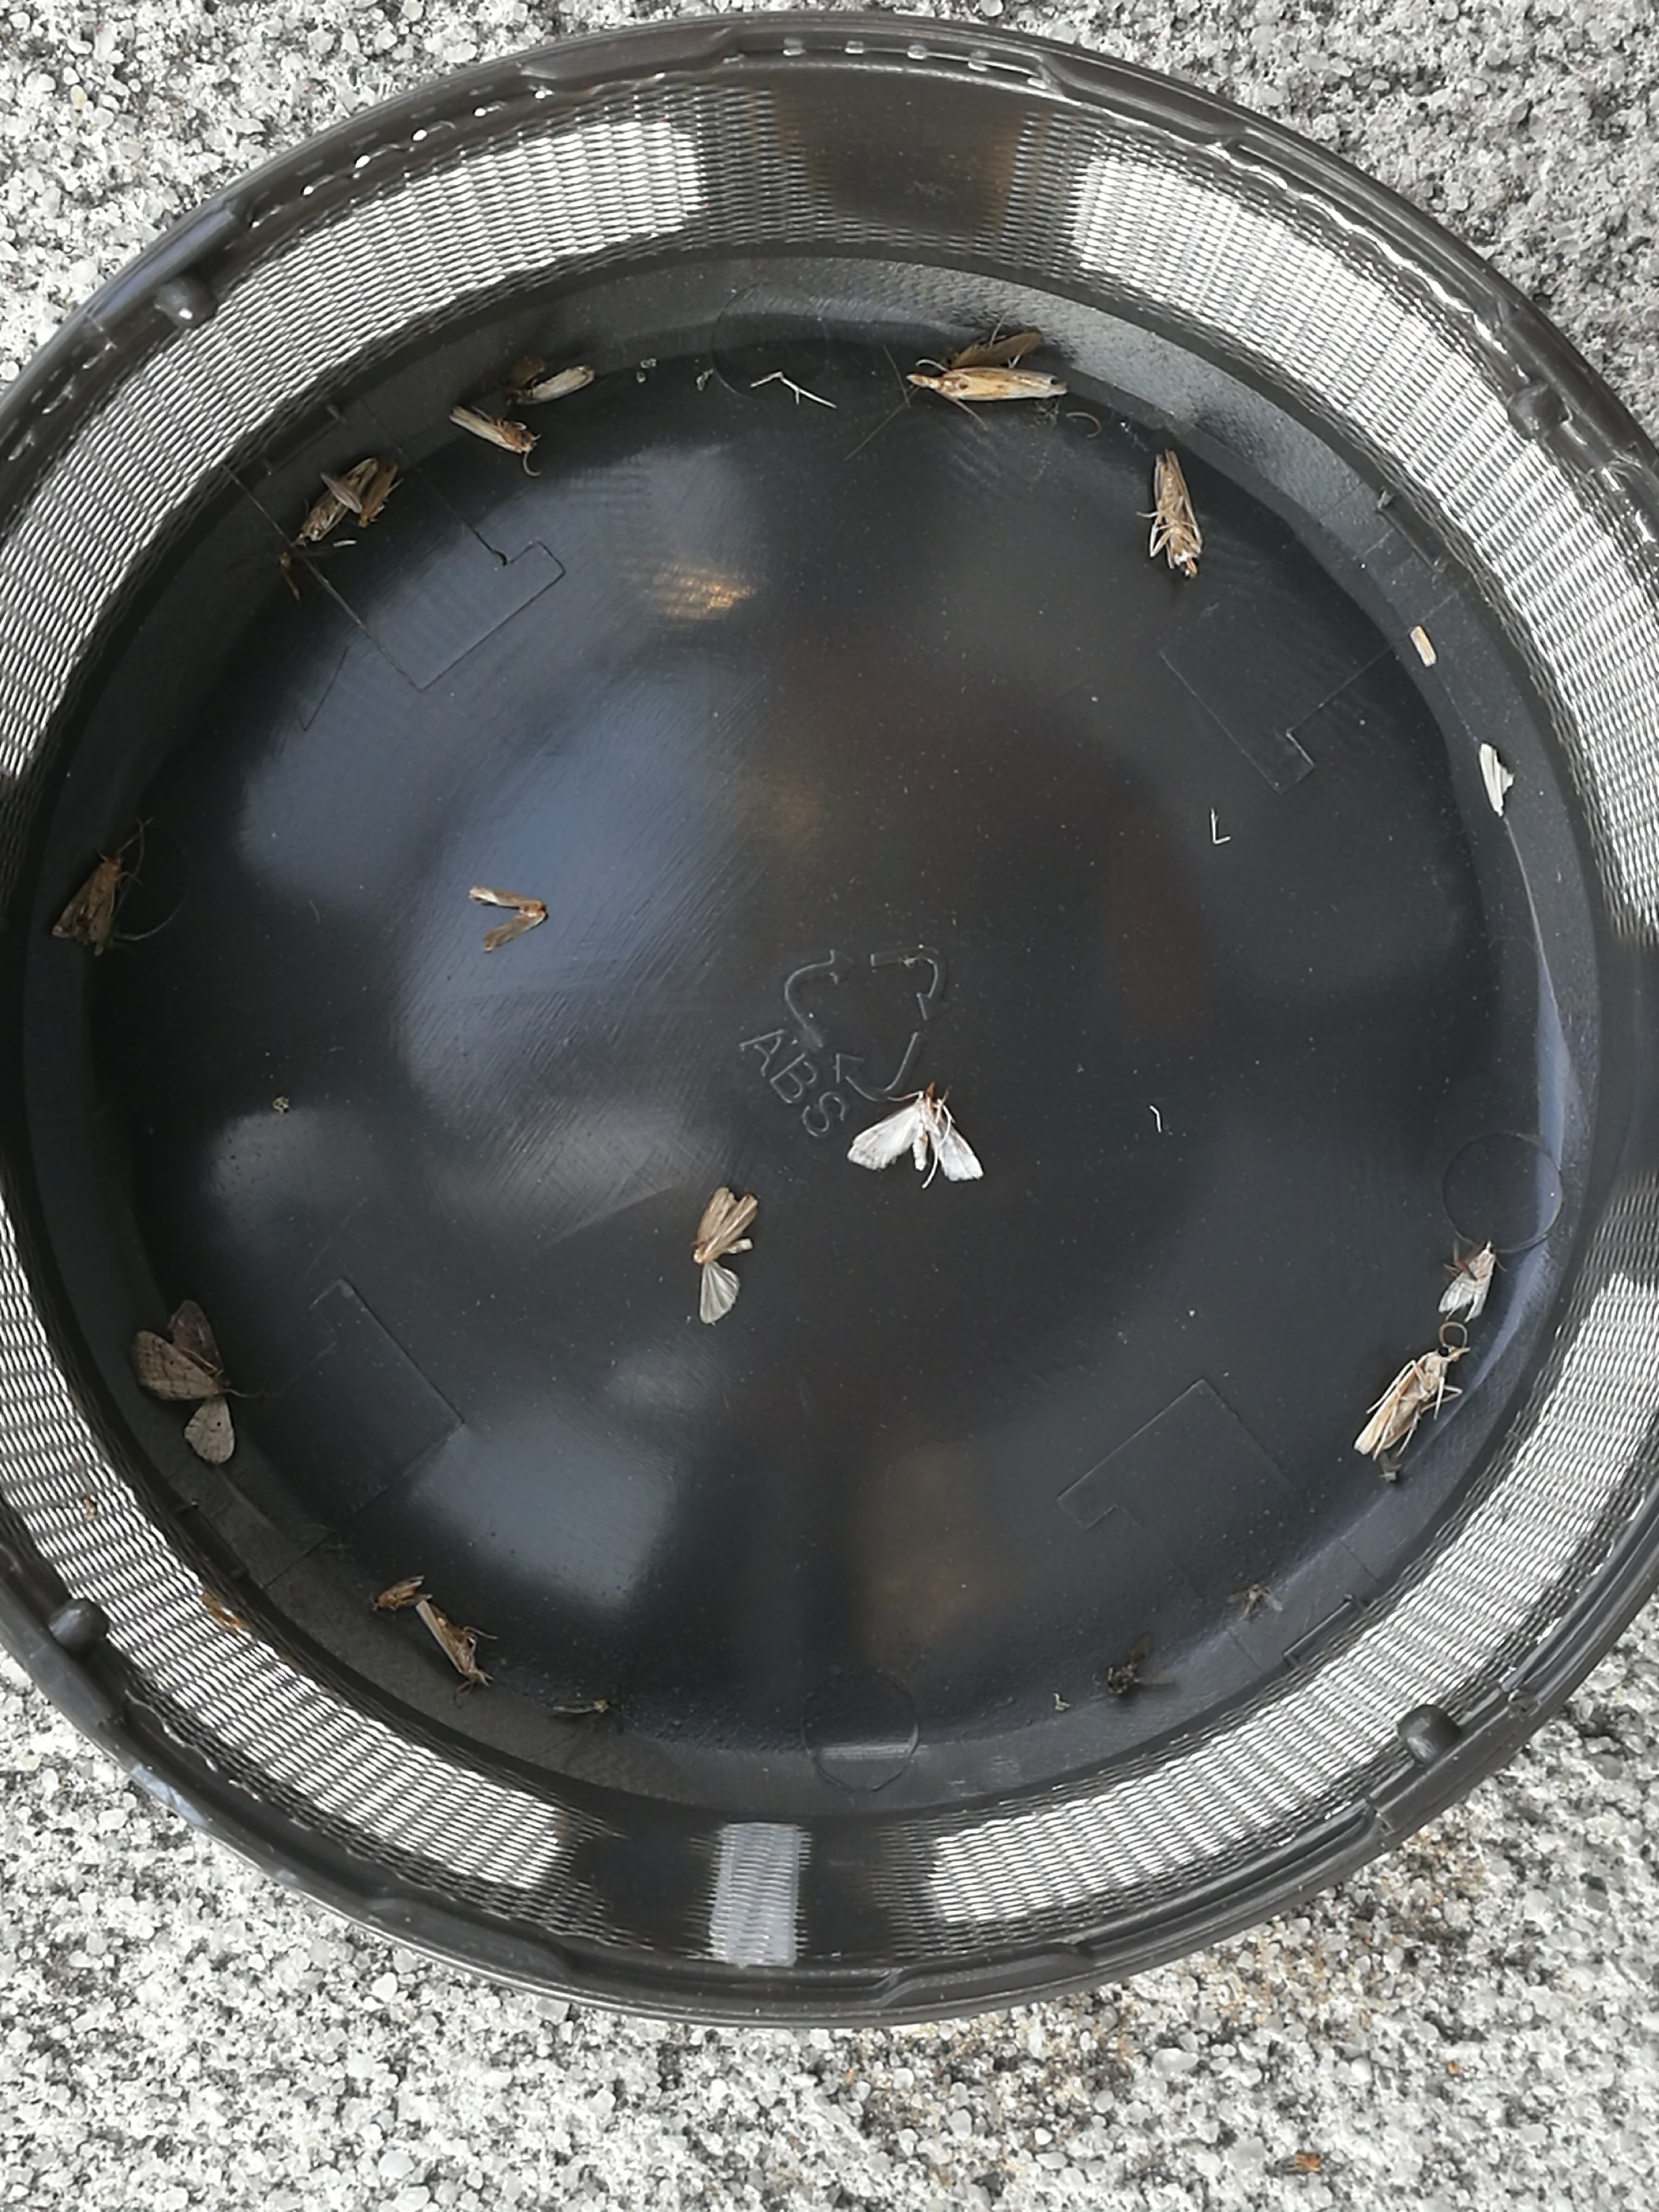mosquito: (1356, 1346, 1467, 1458), (298, 458, 375, 545), (1150, 451, 1202, 577), (415, 1601, 484, 1681), (910, 368, 1066, 399), (453, 408, 533, 453), (951, 329, 1040, 366), (357, 463, 396, 526), (532, 366, 592, 401), (373, 1575, 423, 1611)
moth: (136, 1299, 235, 1465), (847, 1096, 983, 1181), (694, 1190, 756, 1322), (52, 855, 120, 953), (1439, 1244, 1495, 1320)
